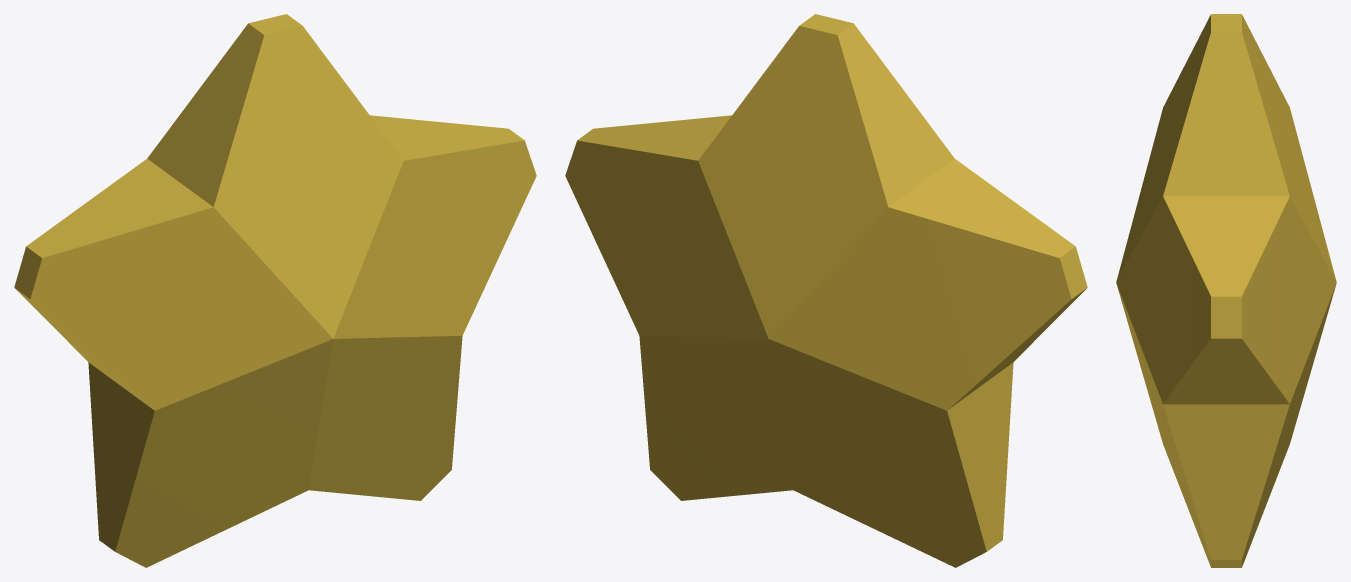
File: Star.glb
3 renders of one model, left to right at view 1: azimuth 30°, elevation 25°; view 2: azimuth 150°, elevation 25°; view 3: azimuth 270°, elevation 25°, orthographic. The views are drawn at different scales.
Visible parts, largest first — view 1: Star; view 2: Star; view 3: Star.
Boxes of the visible parts, x1=… form: Star: x1=14, y1=14, x2=536, y2=567; Star: x1=565, y1=14, x2=1087, y2=567; Star: x1=1116, y1=14, x2=1336, y2=567.
Bounding box in the file's own units: 0.8516 × 0.8099 × 0.3367.
